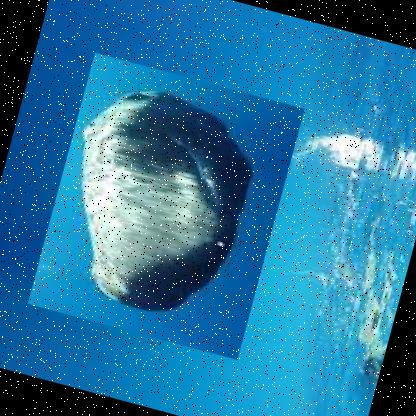sperm_whale: (26, 51, 304, 360)
